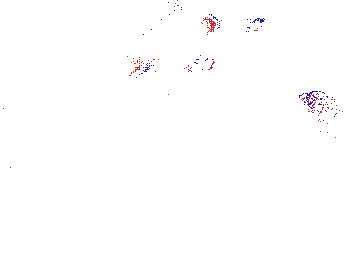X-ray fish: (296, 90, 346, 123)
redtail glassfish: (128, 51, 215, 79), (133, 1, 188, 38), (208, 12, 267, 40)
